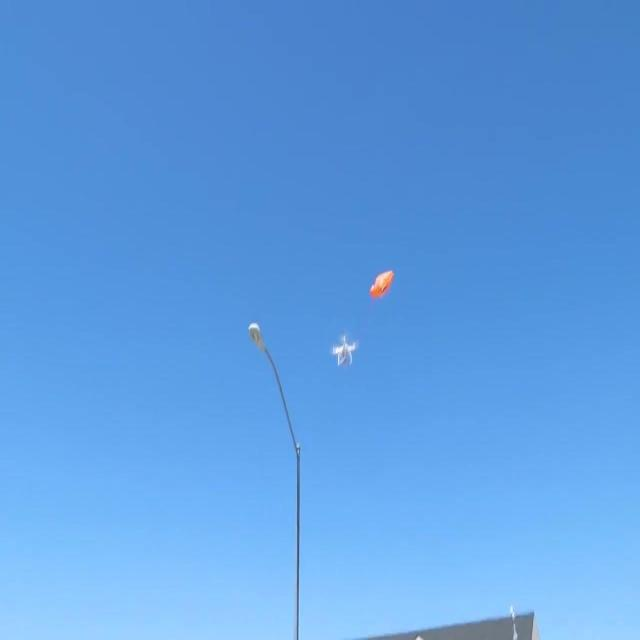drone: (327, 333, 359, 368)
